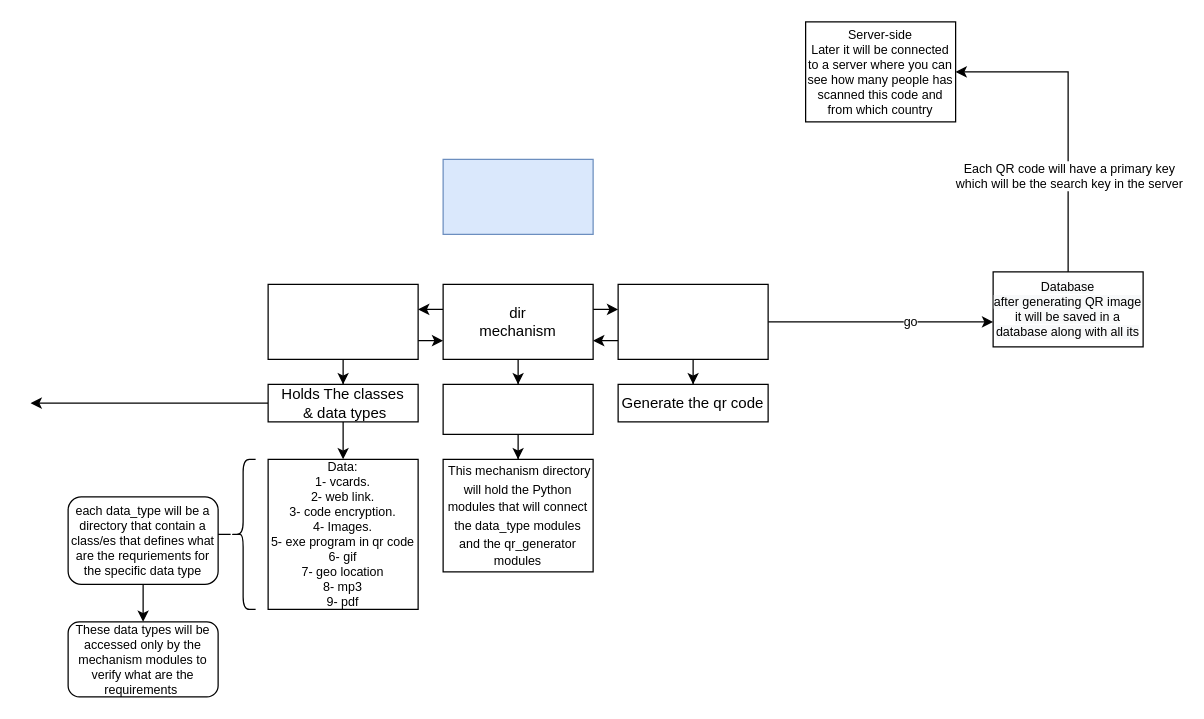
Some shapes in this 1204 by 719 pixel diagram are drawn without their labels. The centre of each missing label's shape, as x and y in pixels:
"dir data_type" belongs at pixel 342 321.
"dir qr_generator" belongs at pixel 692 321.
"Input/Output Builds the mechanism" belongs at pixel 517 408.
"Sfesten Project" belongs at pixel 517 196.
